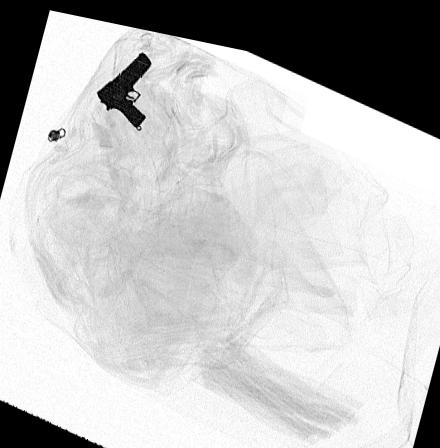Gun: (93, 46, 152, 124)
